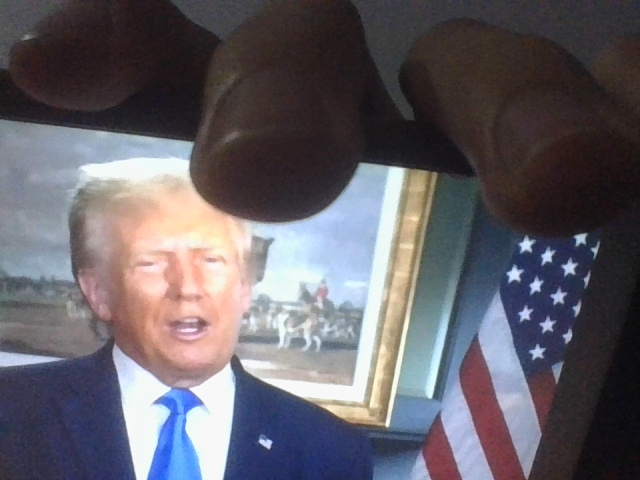fake: (96, 154, 255, 380)
